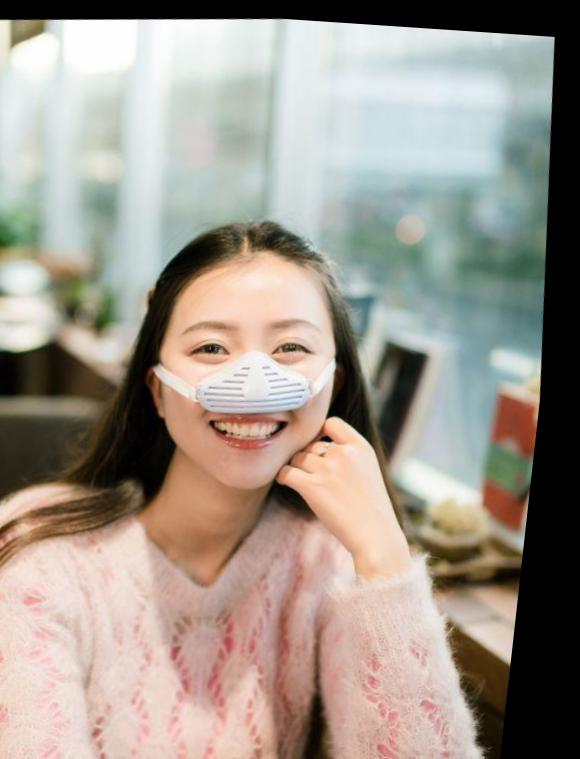WRONG: (155, 288, 361, 501)
